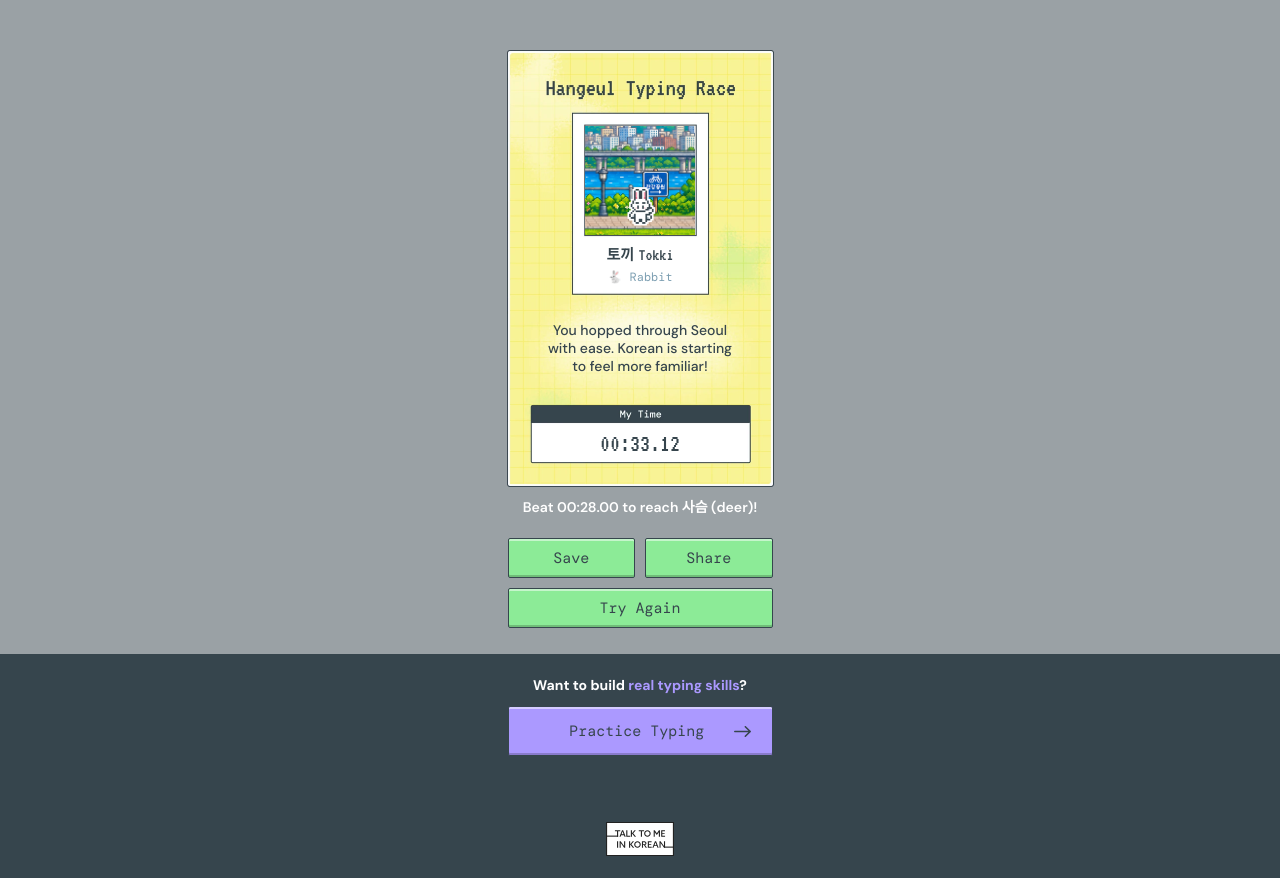
Test: ResultScreen › Copy Link 를 누르면 주소를 클립보드에 복사하고 문구가 바뀐다
Click the button with test id "result-share": (709, 558) 645,538 -> 772,578
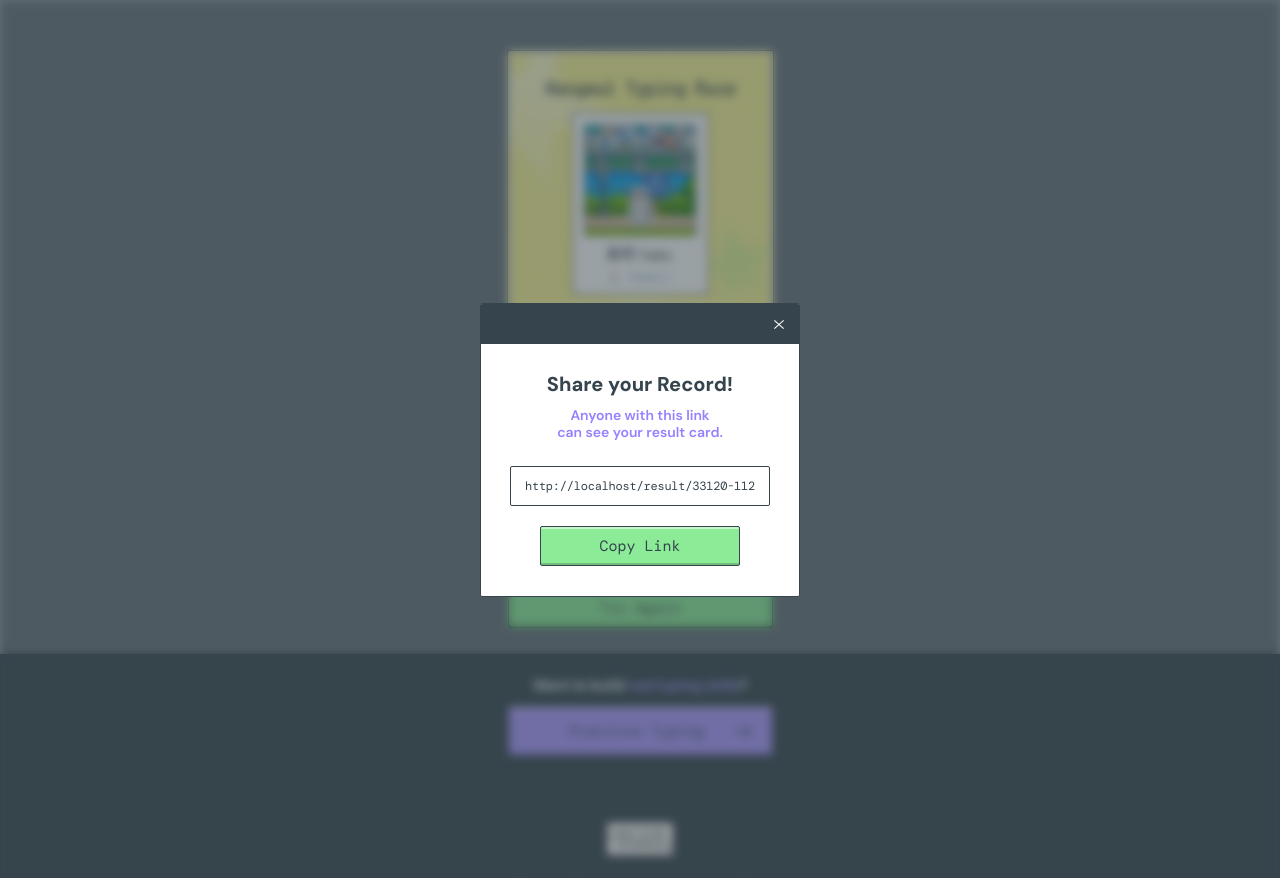
Click the button with test id "share-copy": (640, 546) 540,526 -> 740,566
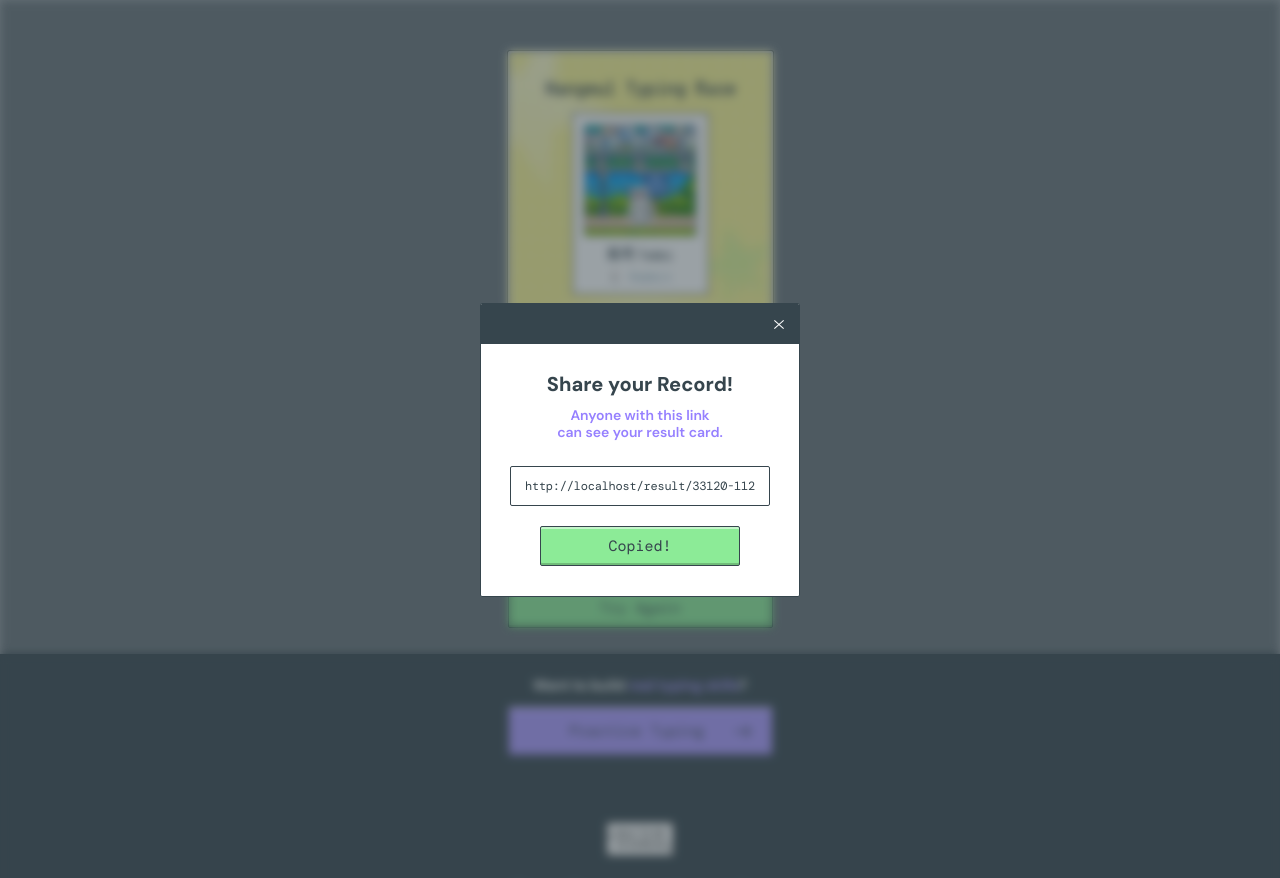
Result: the button "Copied!" is shown at 540,526 -> 740,566
